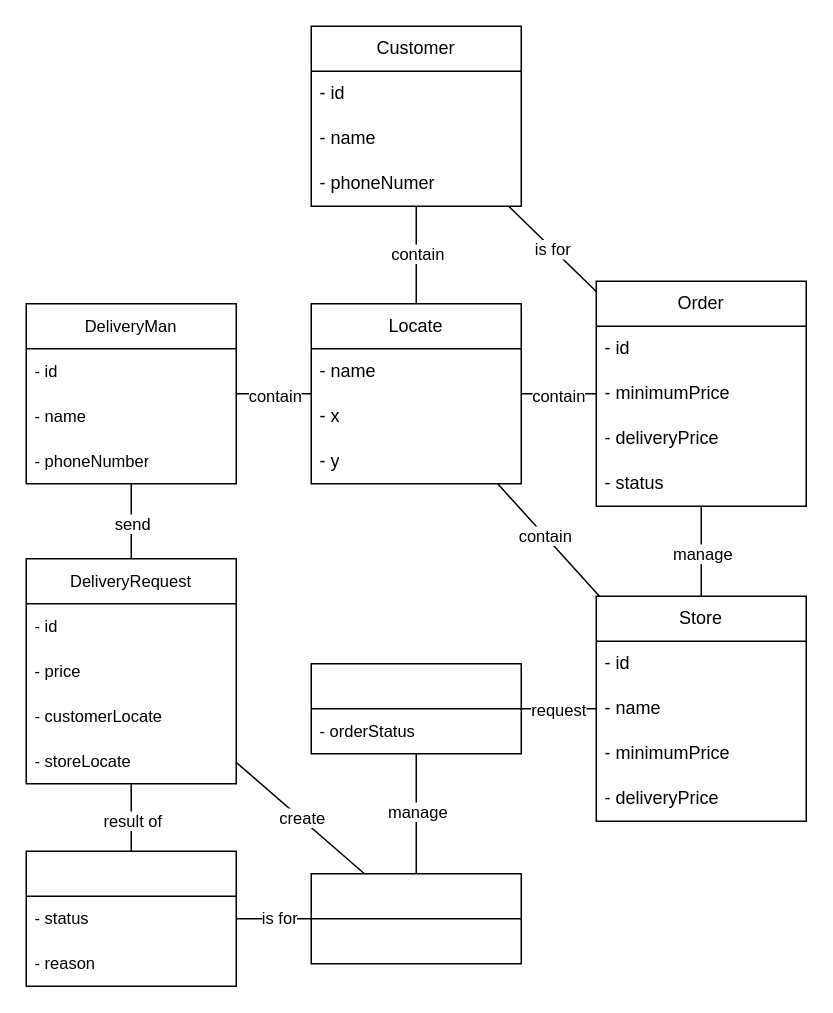
Some shapes in this 833 by 1013 pixel diagram are drawn without their labels. Here are the shapes that lost their labels. From the top down, the box of each, then its label:
(310, 662, 521, 754): DeliveryService
(25, 850, 236, 986): RequestResult
(310, 872, 521, 964): DeliveryPriorityRule
